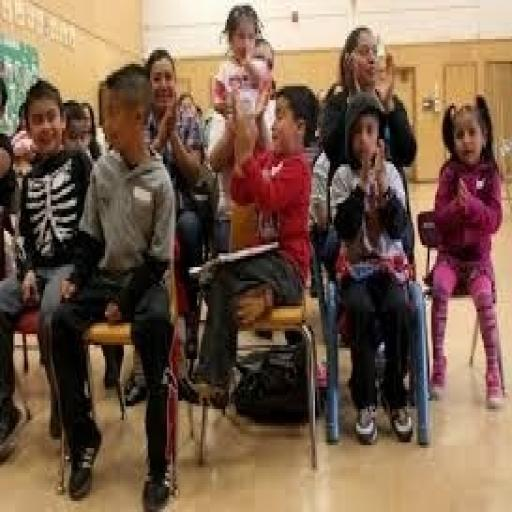clapping: (176, 81, 317, 409), (324, 89, 426, 445), (422, 92, 506, 412)
